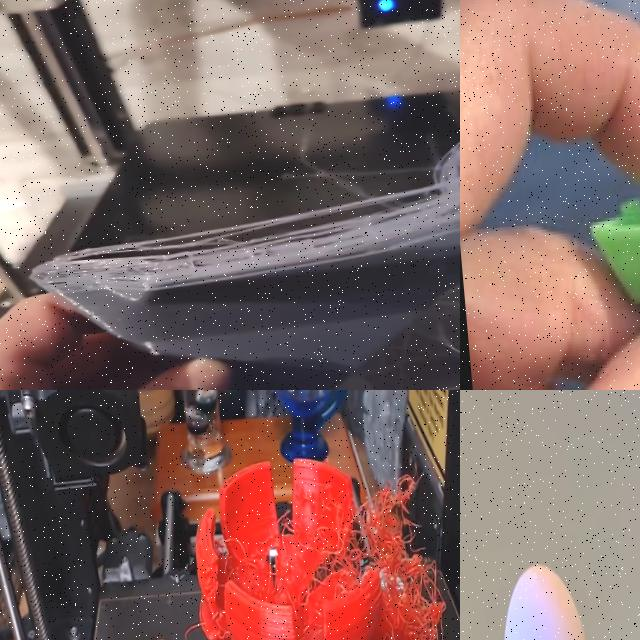spaghetti: (195, 475, 445, 640)
